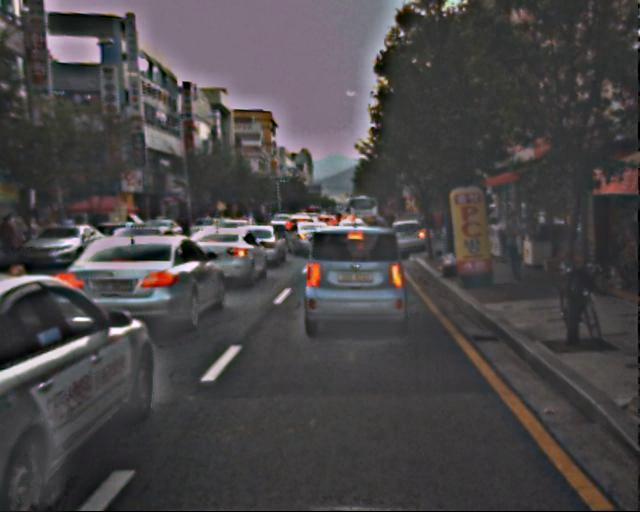person: (501, 211, 532, 286)
